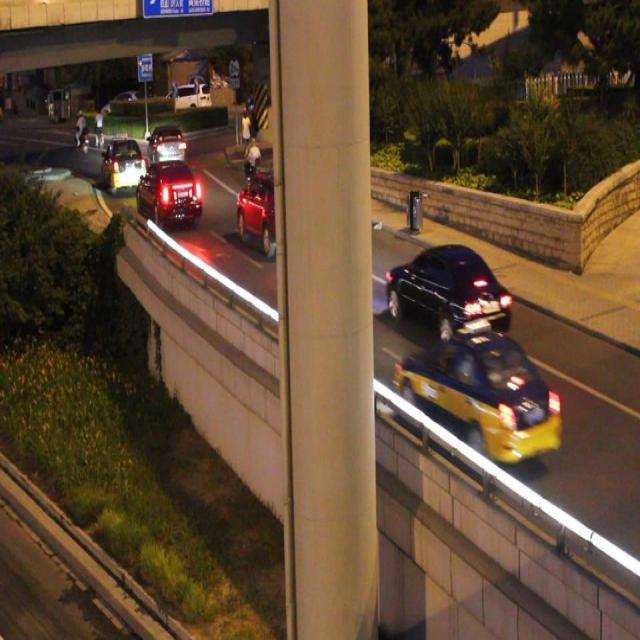car: (394, 318, 561, 461), (386, 243, 510, 352), (236, 166, 314, 258), (135, 160, 202, 230)
